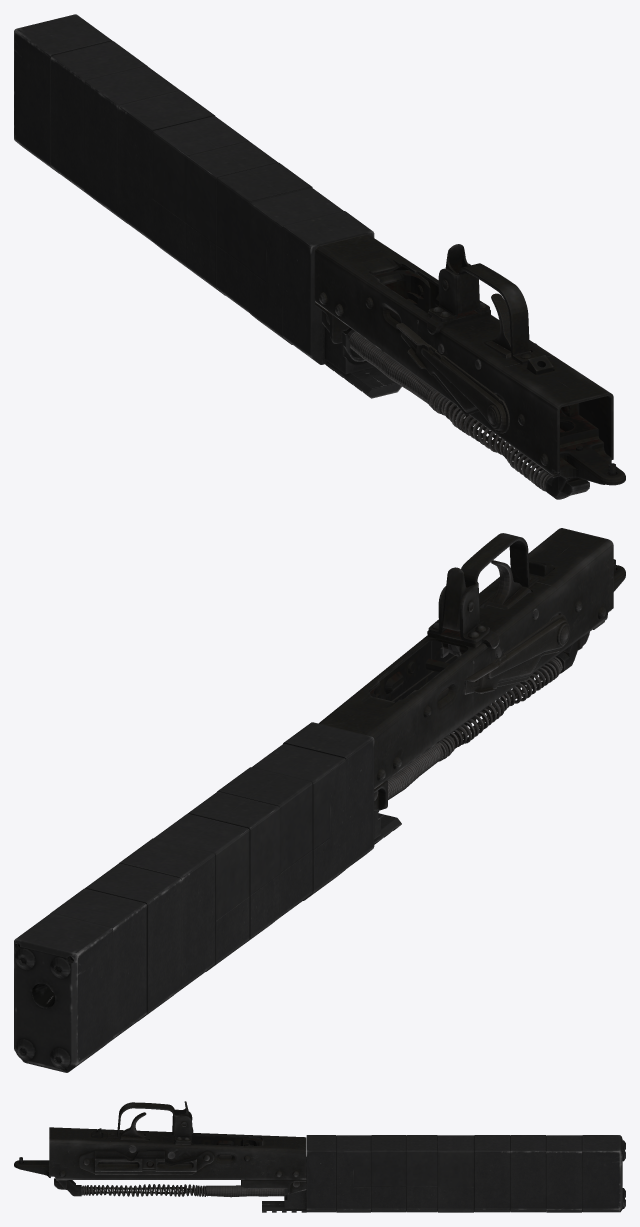
3 renders of one model, top to bottom at view 1: azimuth 30°, elevation 25°; view 2: azimuth 150°, elevation 25°; view 3: azimuth 270°, elevation 25°, orthographic. The views are drawn at different scales.
Parts seen in each view (by area): view 1: TW_674d6121c09f69dfb201a888_PZ_Import; view 2: TW_674d6121c09f69dfb201a888_PZ_Import; view 3: TW_674d6121c09f69dfb201a888_PZ_Import.
Boxes of the visible parts, box(x1,y1,x2,y2) form: TW_674d6121c09f69dfb201a888_PZ_Import: box(14, 14, 625, 499); TW_674d6121c09f69dfb201a888_PZ_Import: box(14, 528, 625, 1072); TW_674d6121c09f69dfb201a888_PZ_Import: box(14, 1101, 625, 1212).
Size of the model in its own units: 0.0288 by 0.3555 by 0.0691.
Materials: 1 (1 with a texture image).
